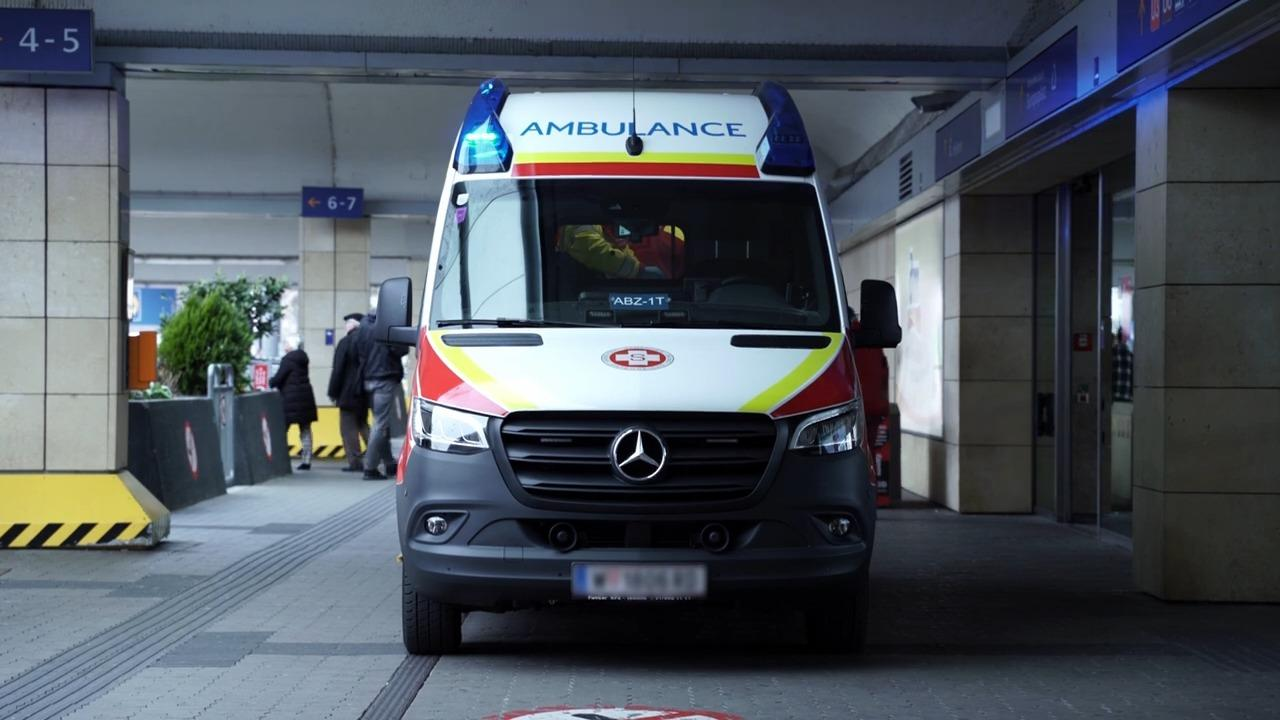car: (375, 74, 902, 657)
